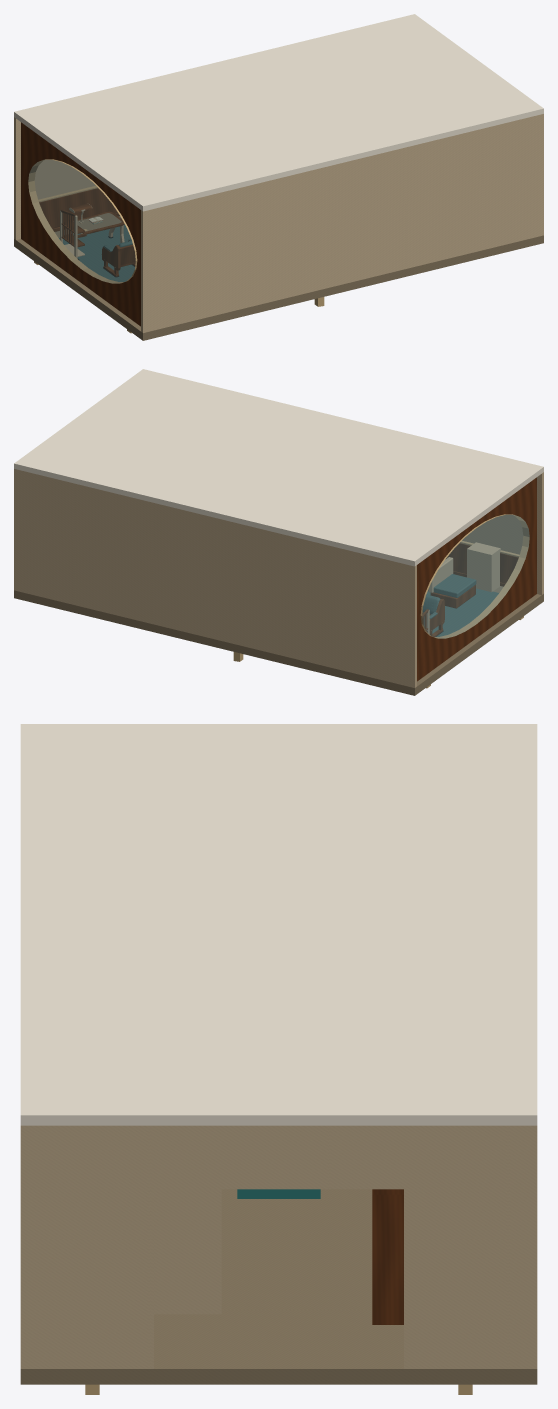
File: NG464_AtriumInterior_r001.glb
The picture shows the model from 3 angles, top to bottom: view 1: azimuth 30°, elevation 25°; view 2: azimuth 150°, elevation 25°; view 3: azimuth 270°, elevation 25°; orthographic projection. The views are drawn at different scales.
Visible parts, largest first — view 1: NG464_RuntimeBatch_001, NG464_OvalAtriumGlass, NG464_RuntimeBatch_002, NG464_RoomFloor, NGA_464_OutlookFloorInlay, NGA_464_South_LowPanel, NG464_RuntimeBatch_004, NG464_RuntimeBatch_026, NG464_RuntimeBatch_047, NG464_RuntimeBatch_027, NG464_LibraryStudyEdge__SINGLE_inset_stone_writing_surface; view 2: NG464_RuntimeBatch_001, NG464_OvalAtriumGlass, NG464_RuntimeBatch_002, NG464_RoomFloor, NG464_RuntimeBatch_004, NGA_464_OutlookFloorInlay, NGA_464_North_LowPanel, NGA_464_ViewSeat_Cushion, NGA_464_ViewSeat_Base; view 3: NG464_RuntimeBatch_001, NG464_RoomFloor, NG464_RuntimeBatch_002, NG464_RuntimeBatch_010.
Part boxes in pixels (x1,y1,x2,y2): NG464_RuntimeBatch_001: (14, 14, 543, 332); NG464_OvalAtriumGlass: (28, 160, 135, 283); NG464_RuntimeBatch_002: (21, 122, 140, 326); NG464_RoomFloor: (14, 216, 543, 340); NGA_464_OutlookFloorInlay: (59, 225, 134, 281); NGA_464_South_LowPanel: (39, 188, 117, 228); NG464_RuntimeBatch_004: (28, 159, 324, 333); NG464_RuntimeBatch_026: (60, 209, 124, 246); NG464_RuntimeBatch_047: (102, 241, 135, 276); NG464_RuntimeBatch_027: (60, 211, 124, 258); NG464_LibraryStudyEdge__SINGLE_inset_stone_writing_surface: (77, 213, 121, 231); NG464_RuntimeBatch_001: (14, 369, 543, 687); NG464_OvalAtriumGlass: (422, 515, 529, 638); NG464_RuntimeBatch_002: (417, 477, 536, 681); NG464_RoomFloor: (14, 586, 543, 695); NG464_RuntimeBatch_004: (233, 514, 529, 688); NGA_464_OutlookFloorInlay: (426, 588, 498, 636); NGA_464_North_LowPanel: (446, 543, 518, 583); NGA_464_ViewSeat_Cushion: (433, 574, 476, 597); NGA_464_ViewSeat_Base: (430, 585, 475, 608); NG464_RuntimeBatch_001: (20, 724, 537, 1368); NG464_RoomFloor: (20, 1189, 537, 1384); NG464_RuntimeBatch_002: (372, 1189, 403, 1324); NG464_RuntimeBatch_010: (237, 1189, 320, 1198).
Size of the model in its own units: 12.9 by 4.91 by 7.2.
39 materials, 20 textured.
